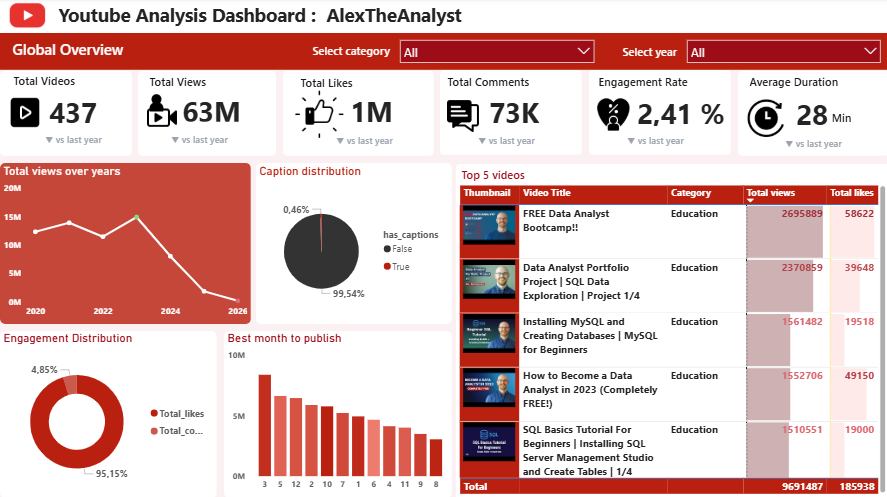

Layout of this report page (visuals, bound fields, positions):
{"tool":"powerbi","page":{"name":"Overview","canvas":[1280,720],"ordinal":0},"visuals":[{"type":"shape","box":[0,0,1280.2,50.4],"z":0},{"type":"shape","box":[0,50.4,1280.2,53.3],"z":1000},{"type":"image","box":[0,0,79.2,50.4],"z":2000},{"type":"textbox","box":[79.2,0,758.9,60.5],"z":3000},{"type":"shape","box":[0,105.1,190.1,122.4],"z":4000},{"type":"shape","box":[198.7,105.1,198.7,122.4],"z":5000},{"type":"shape","box":[407.5,105.1,217.4,122.4],"z":6000},{"type":"shape","box":[633.6,103.7,204.5,122.4],"z":7000},{"type":"shape","box":[0,237.6,361.4,231.8],"z":8000},{"type":"shape","box":[656.6,239,623.5,481],"z":9000},{"type":"shape","box":[0,479.5,312.5,240.5],"z":10000},{"type":"cardVisual","fields":{"Data":["Mesures.Total_videos"]},"box":[41.8,121,144,82.1],"z":11000},{"type":"cardVisual","fields":{"Data":["Mesures.Total_views"]},"box":[233.3,128.2,146.9,67.7],"z":12000},{"type":"cardVisual","fields":{"Data":["Mesures.Total_likes"]},"box":[472.3,122.4,141.1,76.3],"z":13000},{"type":"shape","box":[848.2,103.7,204.5,122.4],"z":14000},{"type":"shape","box":[1062.7,105.1,217.4,122.4],"z":15000},{"type":"image","box":[13,135.4,46.1,59],"z":16000},{"type":"textbox","box":[14.4,103.7,151.2,31.7],"z":17000},{"type":"textbox","box":[210,105.8,151.2,31.9],"z":18000},{"type":"textbox","box":[427.7,106.6,151.2,31.7],"z":19000},{"type":"image","box":[421.9,131,76.3,73.4],"z":20000},{"type":"cardVisual","fields":{"Data":["Mesures.Total Videos Label"]},"box":[36,172.8,190.1,59],"z":21000},{"type":"cardVisual","fields":{"Data":["Mesures.Total Views Label"]},"box":[217.4,169.9,190.1,59],"z":22000},{"type":"cardVisual","fields":{"Data":["Mesures.Total Likes Label"]},"box":[473.8,174.2,154.1,59],"z":23000},{"type":"image","box":[210.2,132.5,46.1,59],"z":24000},{"type":"cardVisual","fields":{"Data":["Mesures.Eng_rate"]},"box":[888.5,125.3,190.1,76.3],"z":25000},{"type":"textbox","box":[856.7,105.8,151.2,31.9],"z":26000},{"type":"image","box":[856.8,138.2,53.3,59],"z":27000},{"type":"cardVisual","fields":{"Data":["Mesures.Eng_rate Label"]},"box":[884.2,175.7,190.1,59],"z":28000},{"type":"cardVisual","fields":{"Data":["Mesures.Total_comments"]},"box":[675.4,123.8,165.6,76.3],"z":29000},{"type":"textbox","box":[640,105.8,151.2,31.9],"z":30000},{"type":"image","box":[643.7,144,46.1,51.8],"z":31000},{"type":"cardVisual","fields":{"Data":["Mesures.Total comments Label"]},"box":[675.4,172.8,190.1,59],"z":32000},{"type":"lineChart","title":"Total views over years","fields":{"Y":["Mesures.Total_views"],"Category":["factTable.year"]},"box":[0,239,361.4,230.4],"z":33000},{"type":"donutChart","title":"Engagement Distribution","fields":{"Y":["Mesures.Total_likes","Mesures.Total_comments"]},"box":[0,479.5,312.5,240.5],"z":34000},{"type":"tableEx","fields":{"Values":["factTable.image_url","factTable.title","factTable.dimCategory.category_name","Sum(factTable.views)","Sum(factTable.likes)"]},"box":[656.6,265,623.5,453.6],"z":35000},{"type":"textbox","box":[659.5,239,151.2,31.7],"z":36000},{"type":"textbox","box":[13.4,55.4,203.3,43.7],"z":37000},{"type":"slicer","fields":{"Values":["factTable.year"]},"box":[979.3,50.4,299,52.1],"z":38000},{"type":"textbox","box":[892,62.2,100.8,38.6],"z":39000},{"type":"cardVisual","fields":{"Data":["Mesures.Avg Duration"]},"box":[1117.4,126.7,115.2,76.3],"z":40000},{"type":"textbox","box":[1074.2,105.1,151.2,31.7],"z":41000},{"type":"textbox","box":[1174.6,157.3,73.6,55.2],"z":42000},{"type":"image","box":[1075.1,141.1,53.8,63.8],"z":43000},{"type":"cardVisual","fields":{"Data":["Mesures.Avg duration Label"]},"box":[1102.6,177.4,177.4,60.2],"z":44000},{"type":"slicer","fields":{"Values":["factTable.dimCategory.category_name"]},"box":[565.5,50.2,299.5,51.9],"z":45000},{"type":"textbox","box":[445.1,60.2,142.2,38.5],"z":46000},{"type":"shape","box":[322.6,479.5,328.3,240.5],"z":46001},{"type":"shape","box":[368.6,237.6,282.2,231.8],"z":46002},{"type":"clusteredColumnChart","title":"Best month to publish","fields":{"Category":["factTable.month"],"Y":["Sum(factTable.views)"]},"box":[322.6,479.5,328.3,239],"z":46003},{"type":"pieChart","title":"Caption distribution","fields":{"Category":["factTable.has_captions"],"Y":["CountNonNull(factTable.video_id)"]},"box":[368.6,239,282.2,230.4],"z":46004}]}

Visuals, with their boxes in screenshot pixels (x1, y1, x2, y2), scaled from the page's 1280x720 canvas onto the 887x497 screenshot:
shape: bbox=[0, 0, 886, 35]
shape: bbox=[0, 35, 886, 72]
image: bbox=[0, 0, 55, 35]
textbox: bbox=[55, 0, 581, 42]
shape: bbox=[0, 73, 132, 157]
shape: bbox=[138, 73, 275, 157]
shape: bbox=[282, 73, 433, 157]
shape: bbox=[439, 72, 581, 156]
shape: bbox=[0, 164, 250, 324]
shape: bbox=[455, 165, 886, 496]
shape: bbox=[0, 331, 217, 496]
cardVisual - Mesures.Total_videos: bbox=[29, 84, 129, 140]
cardVisual - Mesures.Total_views: bbox=[162, 88, 263, 135]
cardVisual - Mesures.Total_likes: bbox=[327, 84, 425, 137]
shape: bbox=[588, 72, 729, 156]
shape: bbox=[736, 73, 886, 157]
image: bbox=[9, 93, 41, 134]
textbox: bbox=[10, 72, 115, 93]
textbox: bbox=[146, 73, 250, 95]
textbox: bbox=[296, 74, 401, 95]
image: bbox=[292, 90, 345, 141]
cardVisual - Mesures.Total Videos Label: bbox=[25, 119, 157, 160]
cardVisual - Mesures.Total Views Label: bbox=[151, 117, 282, 158]
cardVisual - Mesures.Total Likes Label: bbox=[328, 120, 435, 161]
image: bbox=[146, 91, 178, 132]
cardVisual - Mesures.Eng_rate: bbox=[616, 86, 747, 139]
textbox: bbox=[594, 73, 698, 95]
image: bbox=[594, 95, 631, 136]
cardVisual - Mesures.Eng_rate Label: bbox=[613, 121, 744, 162]
cardVisual - Mesures.Total_comments: bbox=[468, 85, 583, 138]
textbox: bbox=[444, 73, 548, 95]
image: bbox=[446, 99, 478, 135]
cardVisual - Mesures.Total comments Label: bbox=[468, 119, 600, 160]
"Total views over years" lineChart: bbox=[0, 165, 250, 324]
"Engagement Distribution" donutChart: bbox=[0, 331, 217, 496]
tableEx - factTable.image_url x factTable.title: bbox=[455, 183, 886, 496]
textbox: bbox=[457, 165, 562, 187]
textbox: bbox=[9, 38, 150, 68]
slicer - factTable.year: bbox=[679, 35, 886, 71]
textbox: bbox=[618, 43, 688, 70]
cardVisual - Mesures.Avg Duration: bbox=[774, 87, 854, 140]
textbox: bbox=[744, 73, 849, 94]
textbox: bbox=[814, 109, 865, 147]
image: bbox=[745, 97, 782, 141]
cardVisual - Mesures.Avg duration Label: bbox=[764, 122, 886, 164]
slicer - factTable.dimCategory.category_name: bbox=[392, 35, 599, 70]
textbox: bbox=[308, 42, 407, 68]
shape: bbox=[224, 331, 451, 496]
shape: bbox=[255, 164, 451, 324]
"Best month to publish" clusteredColumnChart: bbox=[224, 331, 451, 496]
"Caption distribution" pieChart: bbox=[255, 165, 451, 324]
